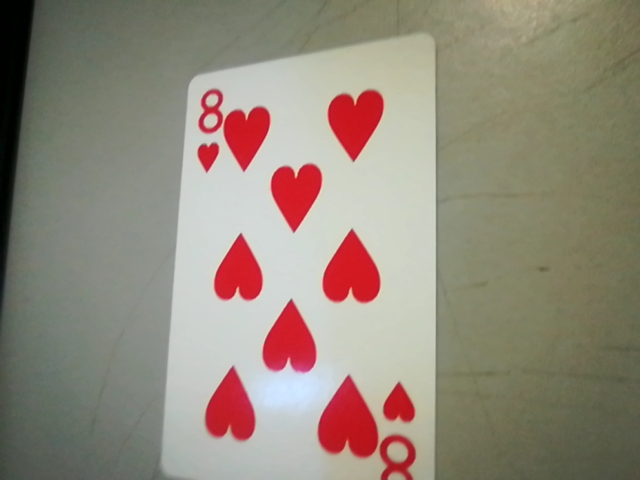hx 8: (181, 85, 232, 177)
